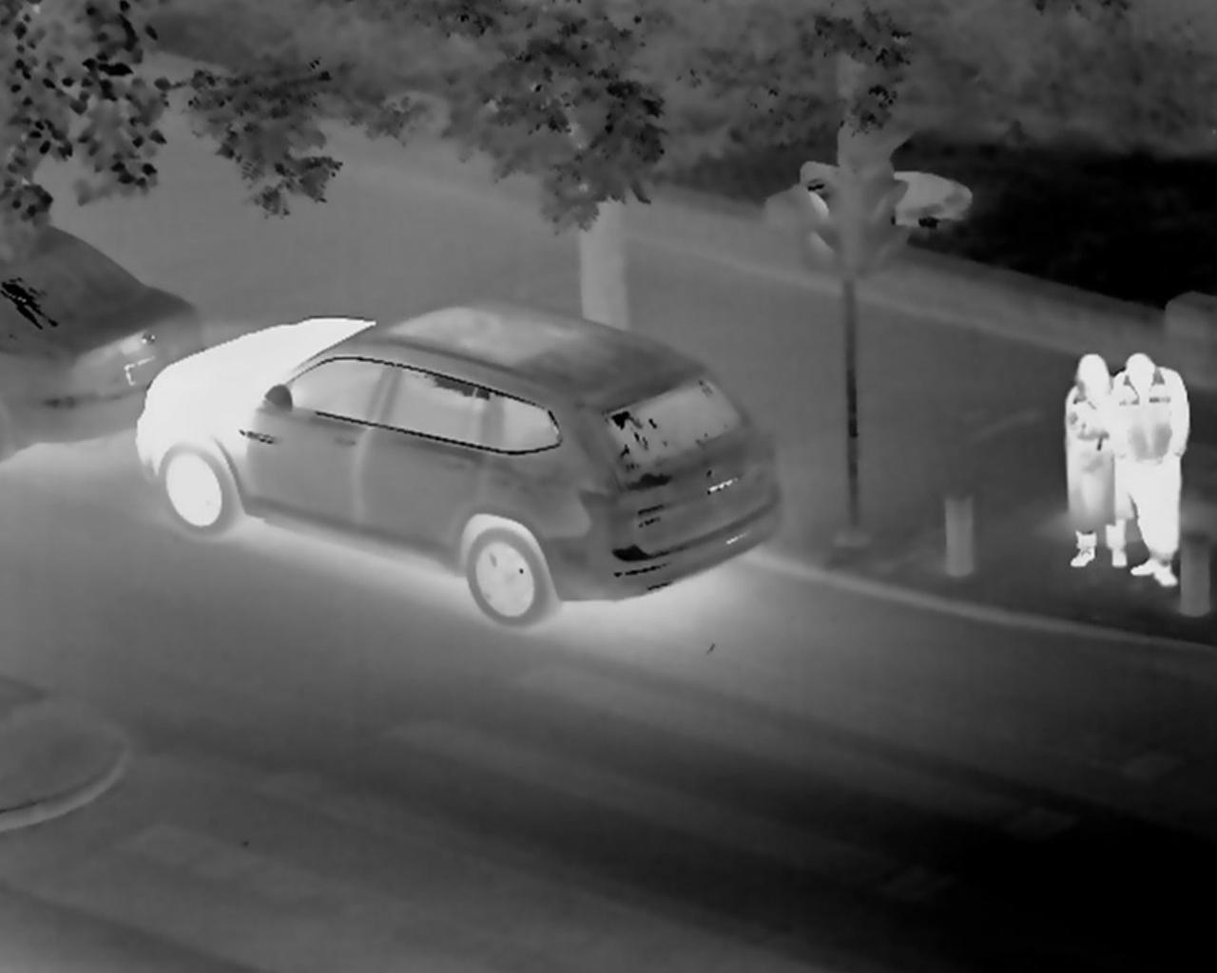person: (1107, 358, 1205, 580), (1060, 351, 1109, 581)
